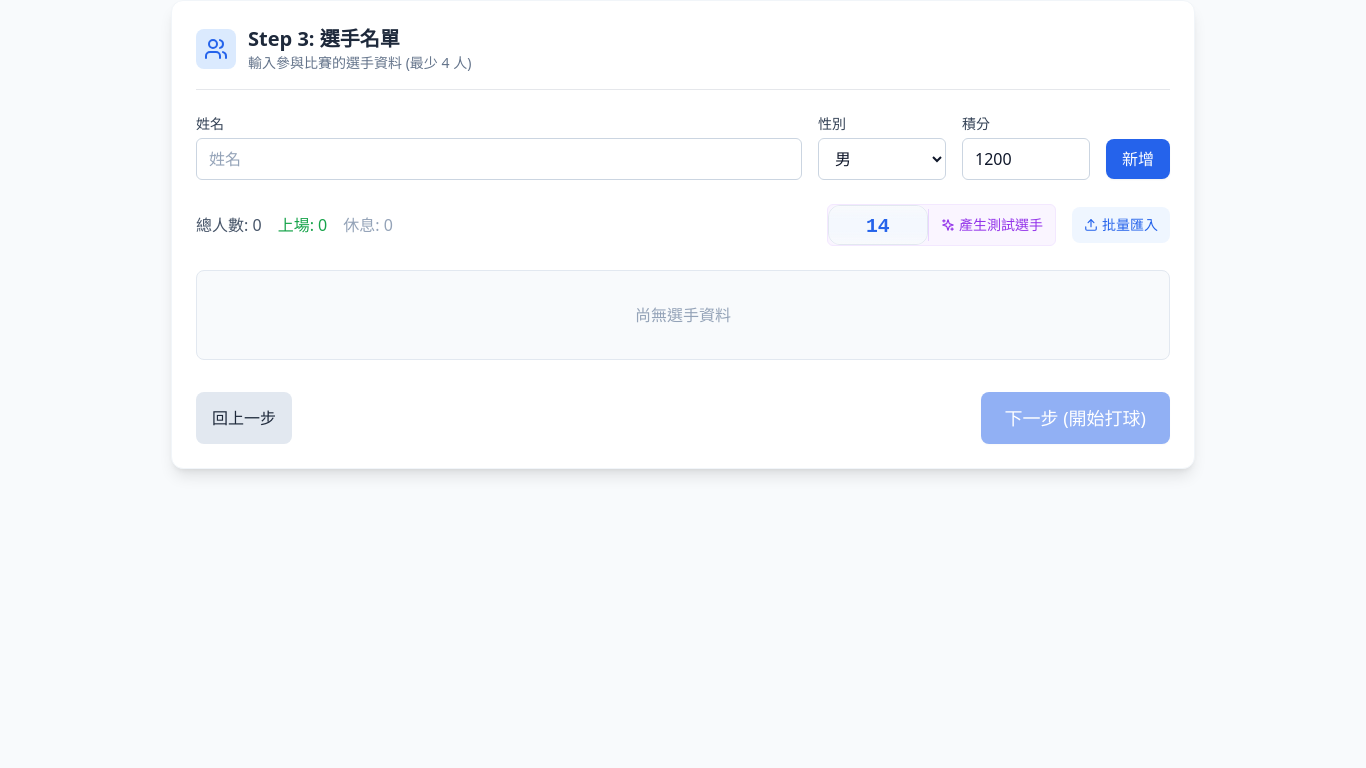
Scenario: PlayerListScreen › shows a validation message and adds nobody when the name is blank
(page scrolled)
Click the button "新增". click: (1138, 159)
box: [1106,139,1170,179]
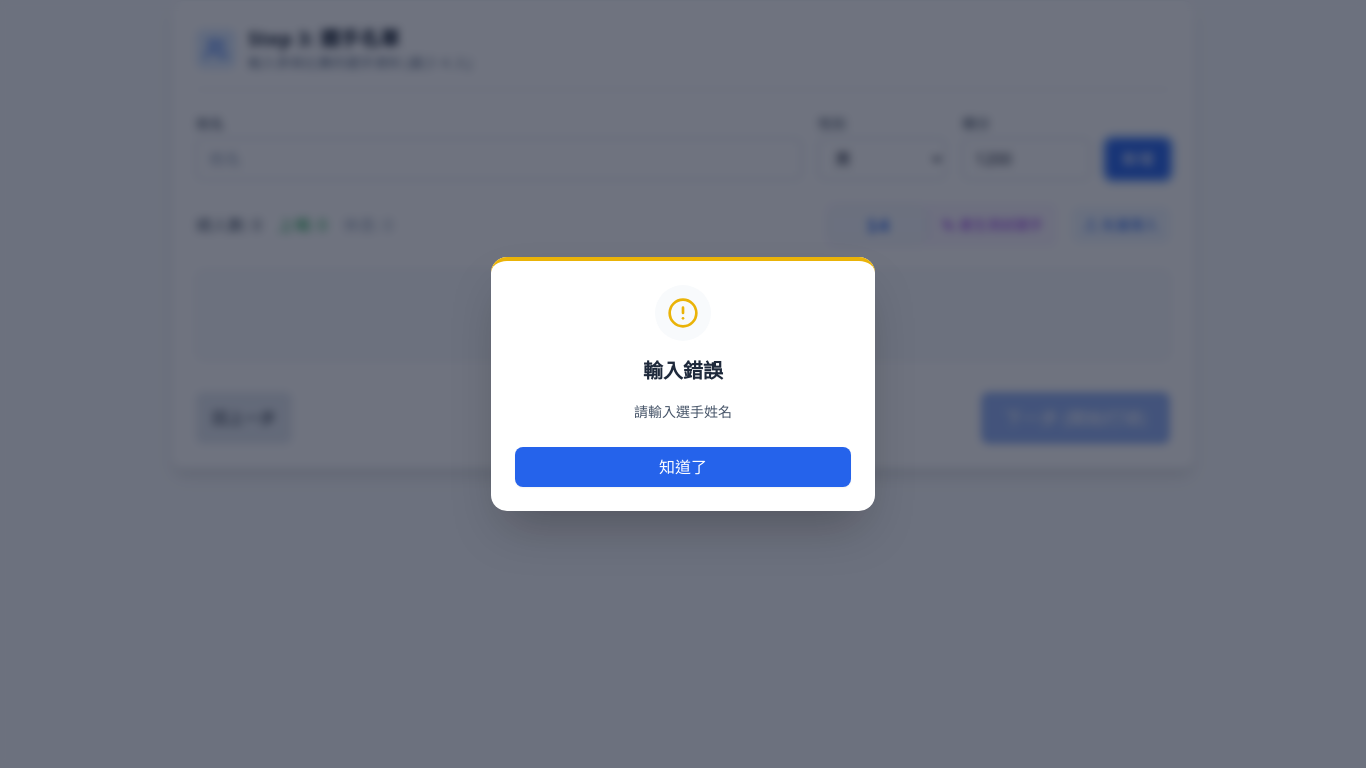
Expected: the text "總人數: 0" is shown, [196,213,262,237]
Expected: the text "請輸入選手姓名" is shown, [634,402,732,421]
